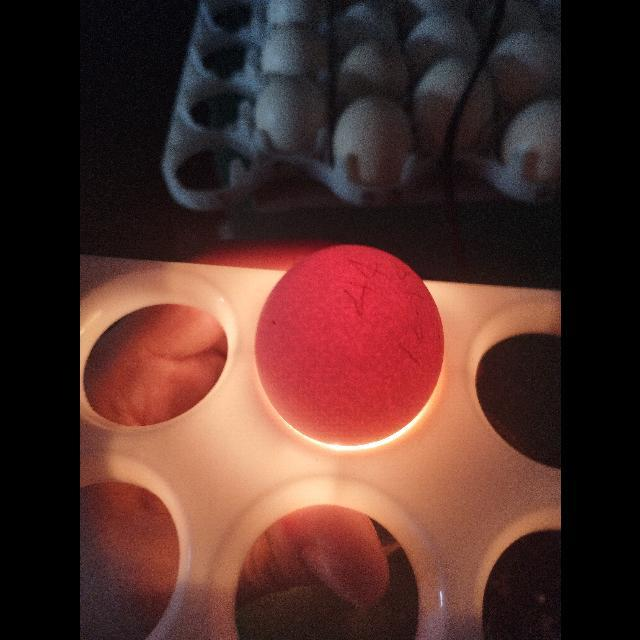A - Good: (251, 242, 447, 453)
